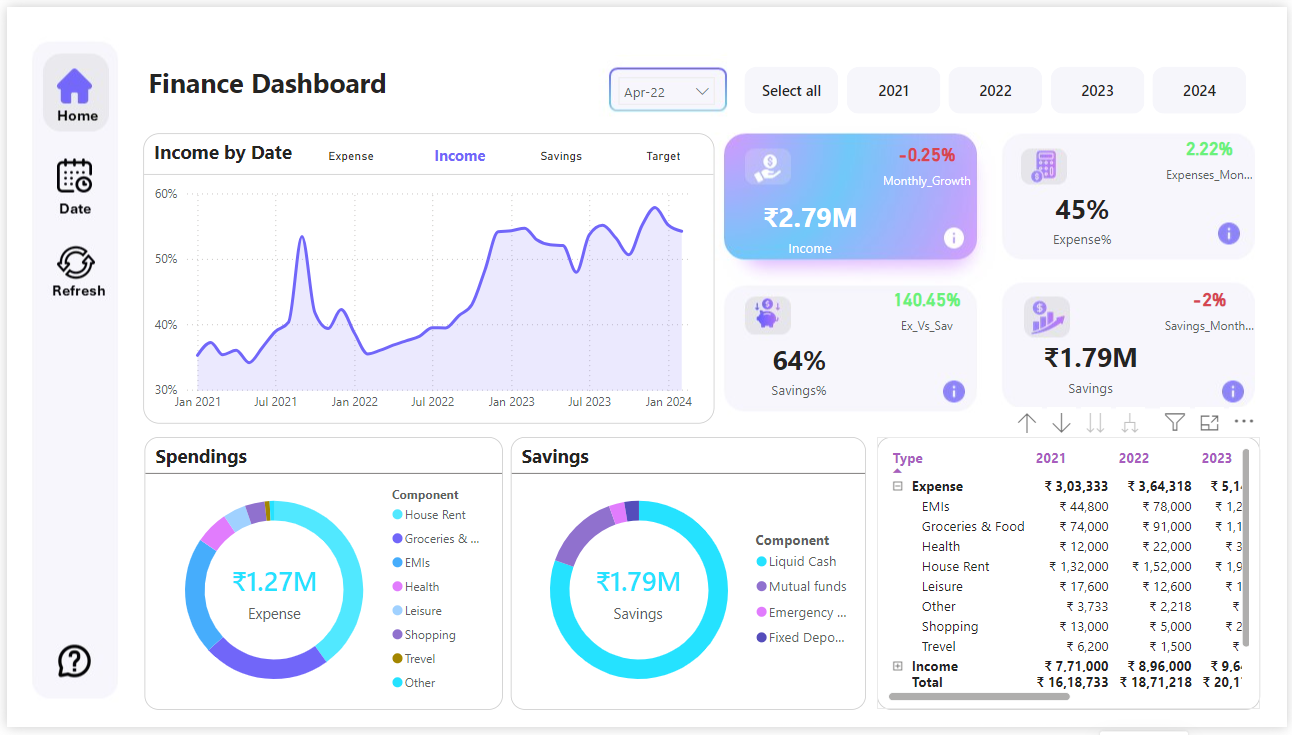

This screenshot's page, from the dashboard's own definition file:
{"tool":"powerbi","page":{"name":"Fin_dashboard","canvas":[1280,720],"ordinal":0},"visuals":[{"type":"donutChart","title":"Spendings","fields":{"Category":["Dataset.Component"],"Y":["Dataset.Expense"]},"box":[137.5,430,358.8,272.5],"z":0},{"type":"card","fields":{"Values":["Dataset.Expense%"]},"box":[1020.9,174.3,108.4,75.5],"z":1000},{"type":"card","fields":{"Values":["Dataset.Income"]},"box":[747.5,185,111.2,70],"z":2000},{"type":"card","fields":{"Values":["Dataset.Savings"]},"box":[1027.5,318.8,112.5,82.5],"z":3000},{"type":"card","fields":{"Values":["Dataset.Savings%"]},"box":[738.3,323.8,107,76.8],"z":4000},{"type":"advancedSlicerVisual","fields":{"Values":["Dataset.Year"]},"box":[732.8,54.9,514.6,57.6],"z":5000},{"type":"donutChart","title":"Savings ","fields":{"Y":["Dataset.Savings"],"Category":["Dataset.Component"]},"box":[503.8,430,355,272.5],"z":6000},{"type":"pivotTable","fields":{"Values":["Dataset.Total_value"],"Rows":["Dataset.Type","Dataset.Component"],"Columns":["Dataset.Year"]},"box":[870,429.5,382.8,273.1],"z":7000},{"type":"areaChart","fields":{"Category":["Dataset.Date.Variation.Date Hierarchy.Year","Dataset.Date.Variation.Date Hierarchy.Month","Dataset.Date.Variation.Date Hierarchy.Day"],"Y":["Dataset.Line_Chart_Measure"]},"box":[136.2,126.2,571.2,290],"z":8000},{"type":"advancedSlicerVisual","fields":{"Values":["Line_selection_Table.Type"]},"box":[311.5,126.2,426.8,48],"z":9000},{"type":"textbox","box":[136.2,52.5,323.8,52.5],"z":10000},{"type":"slicer","fields":{"Values":["Selected_Date.Month-yr"]},"box":[601,60.4,116.6,45.3],"z":11000},{"type":"card","fields":{"Values":["Dataset.Monthly_Growth"]},"box":[870,126.2,100,60],"z":12000},{"type":"card","fields":{"Values":["Dataset.Savings_Monthly_Gr"]},"box":[1152.5,271.2,100,60],"z":13000},{"type":"card","fields":{"Values":["Dataset.Ex_Vs_Sav"]},"box":[870,271.2,100,60],"z":14000},{"type":"card","fields":{"Values":["Dataset.Expenses_Monthly_Gr"]},"box":[1152.5,120,100,60],"z":15000},{"type":"actionButton","box":[36.2,225.6,59.3,59.3],"z":18000},{"type":"card","fields":{"Values":["Dataset.Expense"]},"box":[217.5,541.2,100,86.2],"z":19000},{"type":"card","fields":{"Values":["Dataset.Savings"]},"box":[581.2,546.2,100,76.2],"z":20000}]}

Visuals, with their boxes on the page's 1280x720 design canvas (x1, y1, x2, y2). These are canvas units, not pixel positions in the 1292x735 screenshot, which may show the page scaled, cropped or inside an application window:
"Spendings" donutChart: box=[138, 430, 496, 702]
card - Dataset.Expense%: box=[1021, 174, 1129, 250]
card - Dataset.Income: box=[748, 185, 859, 255]
card - Dataset.Savings: box=[1028, 319, 1140, 401]
card - Dataset.Savings%: box=[738, 324, 845, 401]
advancedSlicerVisual - Dataset.Year: box=[733, 55, 1247, 112]
"Savings " donutChart: box=[504, 430, 859, 702]
pivotTable - Dataset.Total_value x Dataset.Type: box=[870, 430, 1253, 703]
areaChart - Dataset.Date.Variation.Date Hierarchy.Year x Dataset.Date.Variation.Date Hierarchy.Month: box=[136, 126, 707, 416]
advancedSlicerVisual - Line_selection_Table.Type: box=[312, 126, 738, 174]
textbox: box=[136, 52, 460, 105]
slicer - Selected_Date.Month-yr: box=[601, 60, 718, 106]
card - Dataset.Monthly_Growth: box=[870, 126, 970, 186]
card - Dataset.Savings_Monthly_Gr: box=[1152, 271, 1252, 331]
card - Dataset.Ex_Vs_Sav: box=[870, 271, 970, 331]
card - Dataset.Expenses_Monthly_Gr: box=[1152, 120, 1252, 180]
actionButton: box=[36, 226, 96, 285]
card - Dataset.Expense: box=[218, 541, 318, 627]
card - Dataset.Savings: box=[581, 546, 681, 622]
